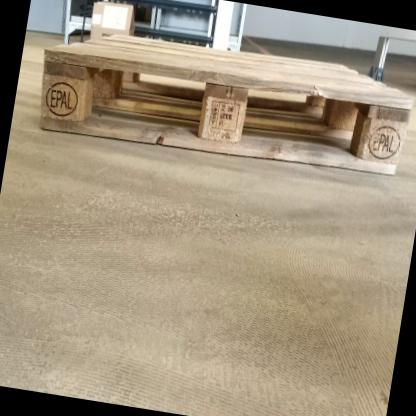BoxFace: (36, 30, 416, 182)
